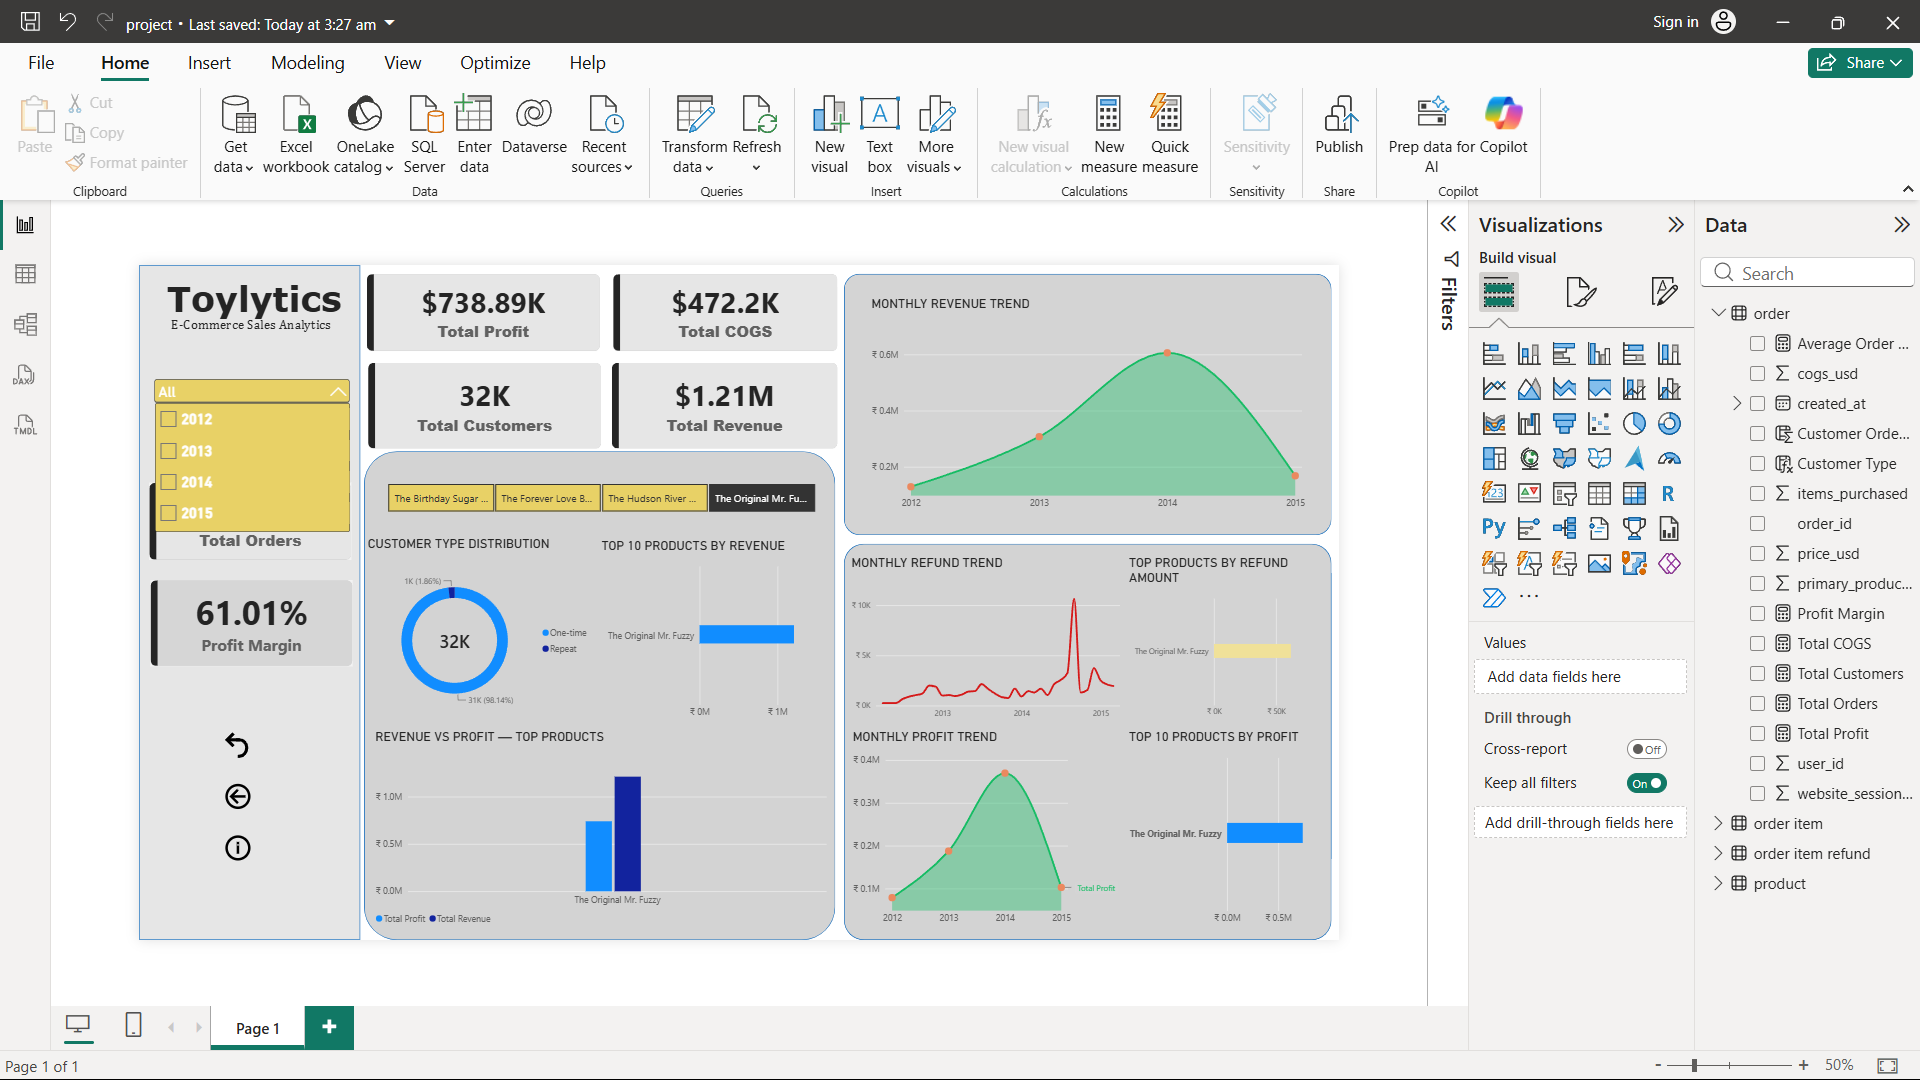

Layout of this report page (visuals, bound fields, positions):
{"tool":"powerbi","page":{"name":"Page 1","canvas":[1920,1080],"ordinal":0},"visuals":[{"type":"shape","box":[1128,446,780,634],"z":0},{"type":"shape","box":[1128,14,780,418],"z":1000},{"type":"shape","box":[0,0,354,1080],"z":2000},{"type":"shape","box":[360,298,754,782],"z":3000},{"type":"cardVisual","fields":{"Data":["order.Total Profit"]},"box":[364,14,374,124],"z":4000},{"type":"cardVisual","fields":{"Data":["order.Total Orders"]},"box":[16,348,324,124],"z":5000},{"type":"cardVisual","fields":{"Data":["order.Total Customers"]},"box":[366,156,374,138],"z":6000},{"type":"cardVisual","fields":{"Data":["order.Total COGS"]},"box":[758,14,360,124],"z":7000},{"type":"cardVisual","fields":{"Data":["order item.Total Revenue"]},"box":[756,156,362,138],"z":8000},{"type":"lineChart","title":"MONTHLY REVENUE TREND","fields":{"Category":["order.created_at.Variation.Date Hierarchy.Year","order.created_at.Variation.Date Hierarchy.Quarter","order.created_at.Variation.Date Hierarchy.Month","order.created_at.Variation.Date Hierarchy.Day"],"Y":["order item.Total Revenue"]},"box":[1172,50,694,346],"z":9000},{"type":"lineChart","title":"MONTHLY PROFIT TREND","fields":{"Category":["order.created_at.Variation.Date Hierarchy.Year","order.created_at.Variation.Date Hierarchy.Quarter","order.created_at.Variation.Date Hierarchy.Month","order.created_at.Variation.Date Hierarchy.Day"],"Y":["order.Total Profit"]},"box":[1142,742,430,318],"z":10000},{"type":"donutChart","title":"CUSTOMER TYPE DISTRIBUTION","fields":{"Category":["order.Customer Type"],"Y":["order.Total Customers"]},"box":[366,434,360,294],"z":11000},{"type":"clusteredBarChart","title":"TOP 10 PRODUCTS BY PROFIT","fields":{"Category":["product.product_name"],"Y":["order.Total Profit"]},"box":[1584,742,310,318],"z":12000},{"type":"clusteredColumnChart","title":"REVENUE VS PROFIT — TOP PRODUCTS","fields":{"Category":["product.product_name"],"Y":["order.Total Profit","order item.Total Revenue"]},"box":[378,742,722,318],"z":13000},{"type":"barChart","title":"TOP 10 PRODUCTS BY REVENUE","fields":{"Category":["product.product_name"],"Y":["order item.Total Revenue"]},"box":[740,436,360,294],"z":14000},{"type":"barChart","title":"TOP PRODUCTS BY REFUND AMOUNT","fields":{"Category":["product.product_name"],"Y":["Sum(order item refund.refund_amount_usd)"]},"box":[1584,464,310,264],"z":15000},{"type":"lineChart","title":"MONTHLY REFUND TREND","fields":{"Category":["order item refund.created_at.Variation.Date Hierarchy.Year","order item refund.created_at.Variation.Date Hierarchy.Quarter","order item refund.created_at.Variation.Date Hierarchy.Month"],"Y":["Sum(order item refund.refund_amount_usd)"]},"box":[1140,464,432,266],"z":16000},{"type":"slicer","title":"year","fields":{"Values":["order.created_at.Variation.Date Hierarchy.Year"]},"box":[20,178,322,62],"z":17000},{"type":"slicer","fields":{"Values":["product.product_name"]},"box":[378,348,722,48],"z":18000},{"type":"textbox","box":[0,14,354,92],"z":19000},{"type":"textbox","box":[18,82,322,110],"z":20000},{"type":"cardVisual","fields":{"Data":["order.Profit Margin"]},"box":[18,504,324,138],"z":21000},{"type":"actionButton","box":[100,728,106,82],"z":22000},{"type":"actionButton","box":[48,780,212,142],"z":23000},{"type":"actionButton","box":[104,880,100,108],"z":24000}]}

Visuals, with their boxes on the page's 1920x1080 design canvas (x1, y1, x2, y2). These are canvas units, not pixel positions in the 1920x1080 screenshot, which may show the page scaled, cropped or inside an application window:
shape: (1128,446,1908,1080)
shape: (1128,14,1908,432)
shape: (0,0,354,1080)
shape: (360,298,1114,1080)
cardVisual - order.Total Profit: (364,14,738,138)
cardVisual - order.Total Orders: (16,348,340,472)
cardVisual - order.Total Customers: (366,156,740,294)
cardVisual - order.Total COGS: (758,14,1118,138)
cardVisual - order item.Total Revenue: (756,156,1118,294)
"MONTHLY REVENUE TREND" lineChart: (1172,50,1866,396)
"MONTHLY PROFIT TREND" lineChart: (1142,742,1572,1060)
"CUSTOMER TYPE DISTRIBUTION" donutChart: (366,434,726,728)
"TOP 10 PRODUCTS BY PROFIT" clusteredBarChart: (1584,742,1894,1060)
"REVENUE VS PROFIT — TOP PRODUCTS" clusteredColumnChart: (378,742,1100,1060)
"TOP 10 PRODUCTS BY REVENUE" barChart: (740,436,1100,730)
"TOP PRODUCTS BY REFUND AMOUNT" barChart: (1584,464,1894,728)
"MONTHLY REFUND TREND" lineChart: (1140,464,1572,730)
"year" slicer: (20,178,342,240)
slicer - product.product_name: (378,348,1100,396)
textbox: (0,14,354,106)
textbox: (18,82,340,192)
cardVisual - order.Profit Margin: (18,504,342,642)
actionButton: (100,728,206,810)
actionButton: (48,780,260,922)
actionButton: (104,880,204,988)
